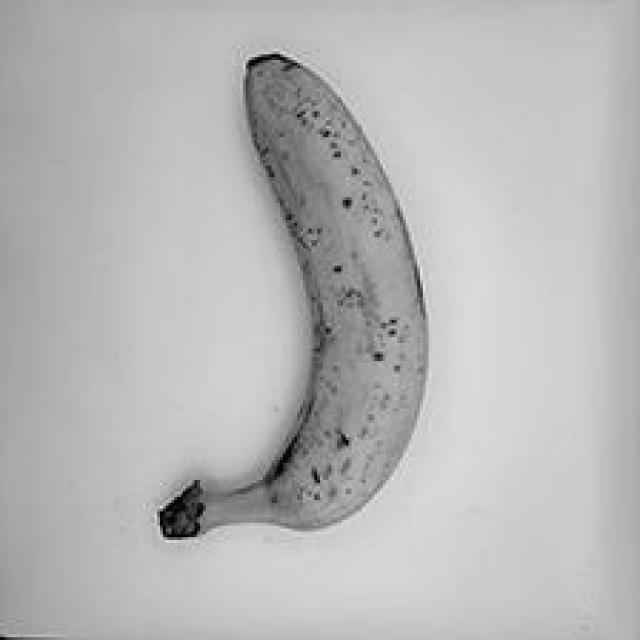Overripe: (139, 31, 478, 586)
